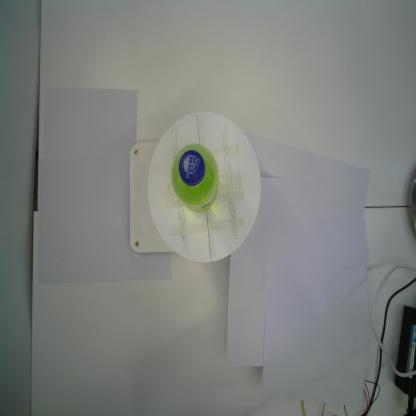Drink: (170, 142, 221, 216)
